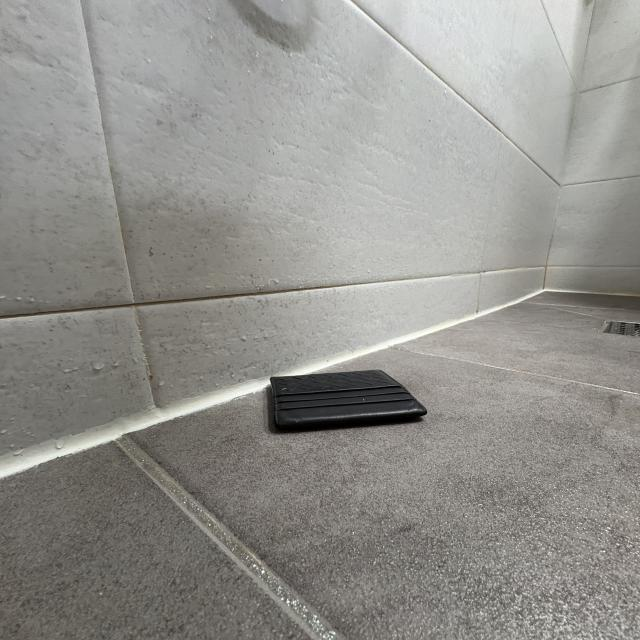wallet: (269, 368, 429, 442)
